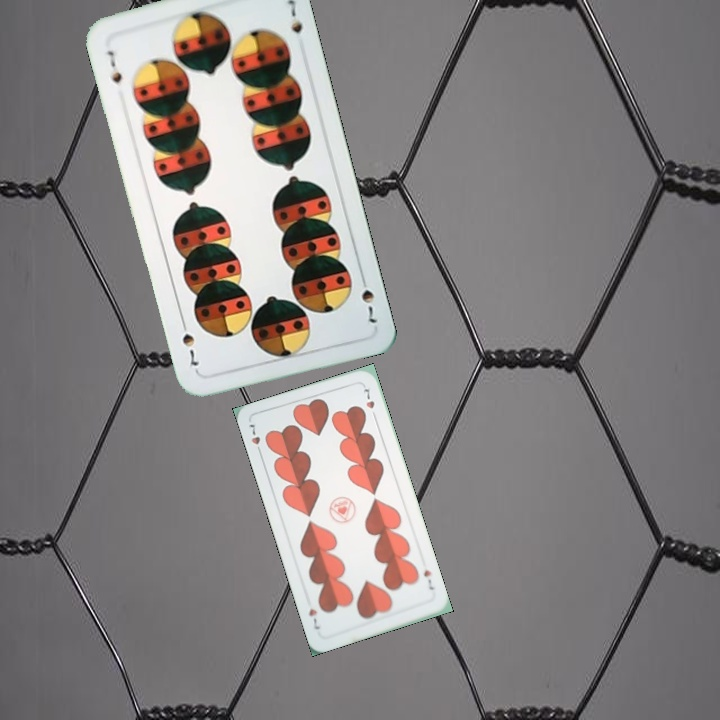H7: (245, 420, 265, 458), (419, 566, 436, 593)
S7: (356, 270, 380, 327), (102, 46, 125, 86)
